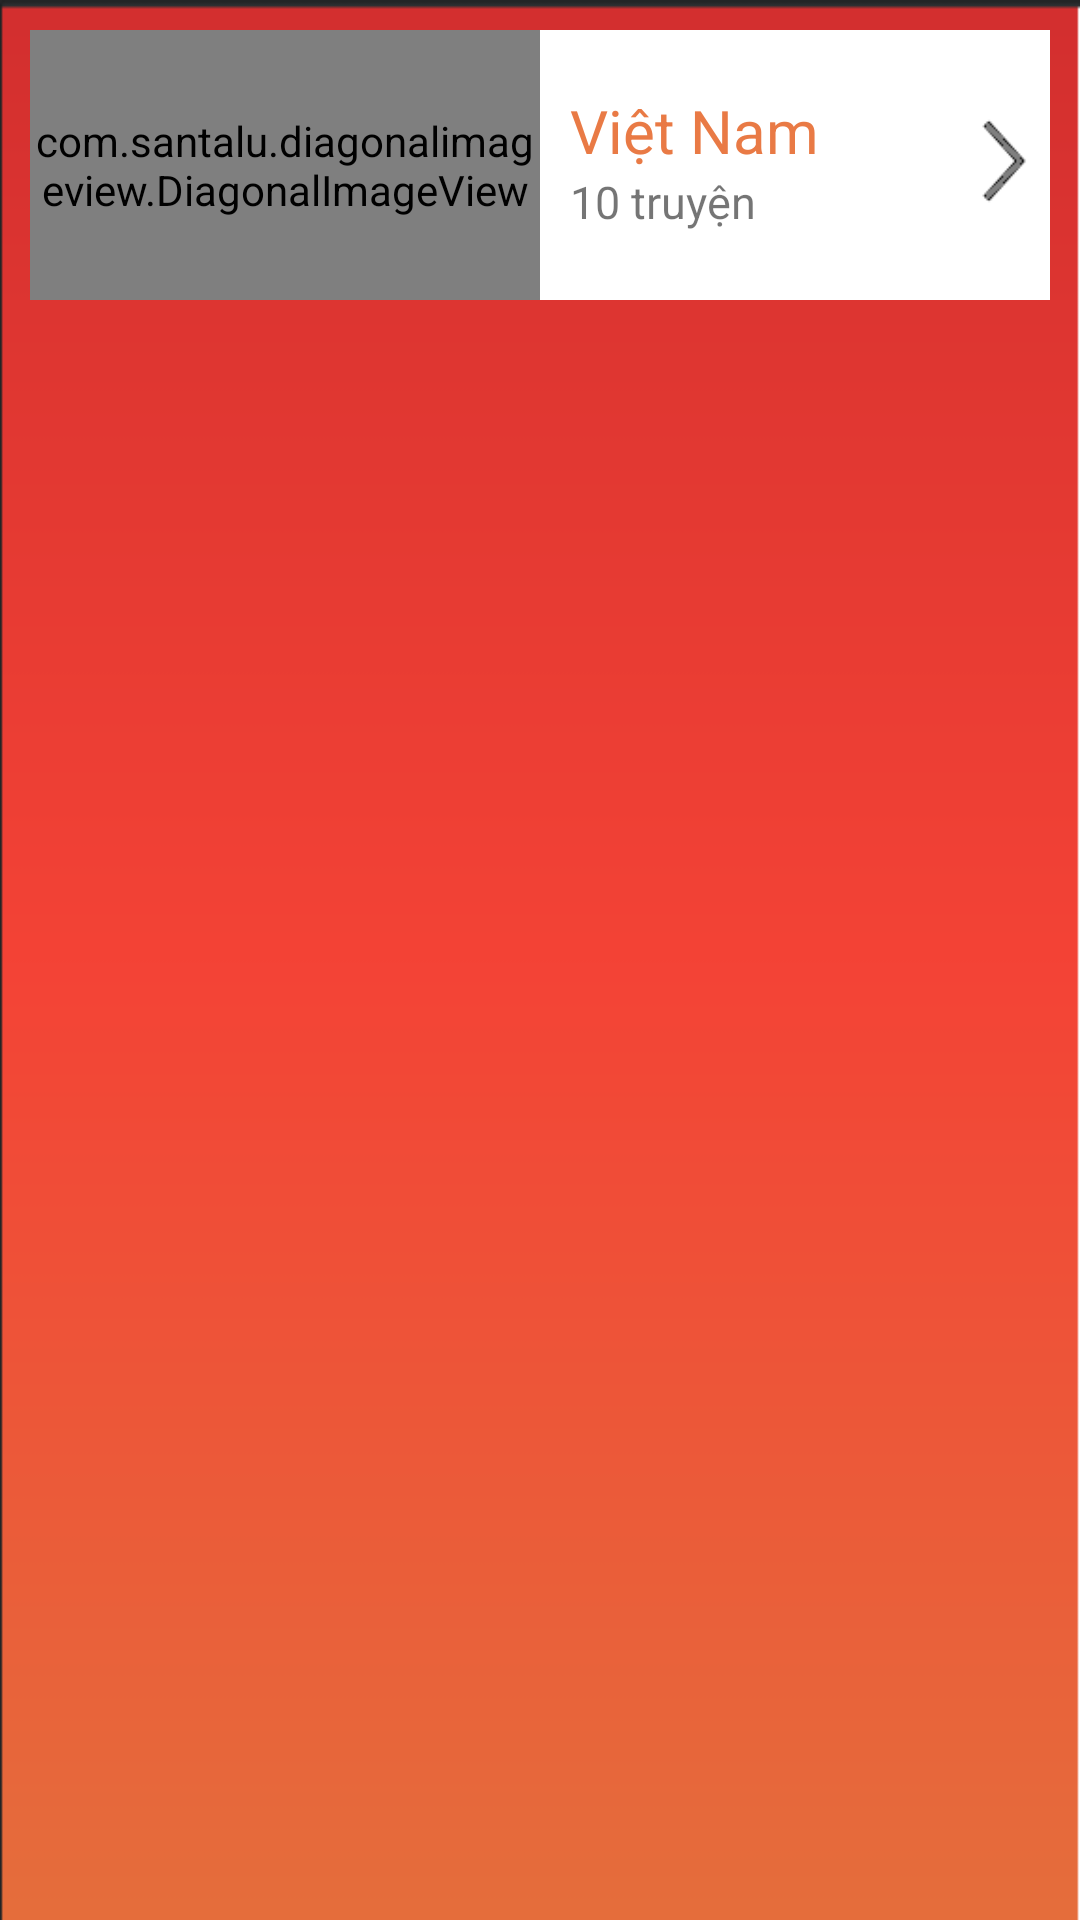

Icon bounding boxes for this 1080w x 1920h phone screenshot, format [x1, y1, x2, y2]:
arrow right: [982, 121, 1026, 201]
